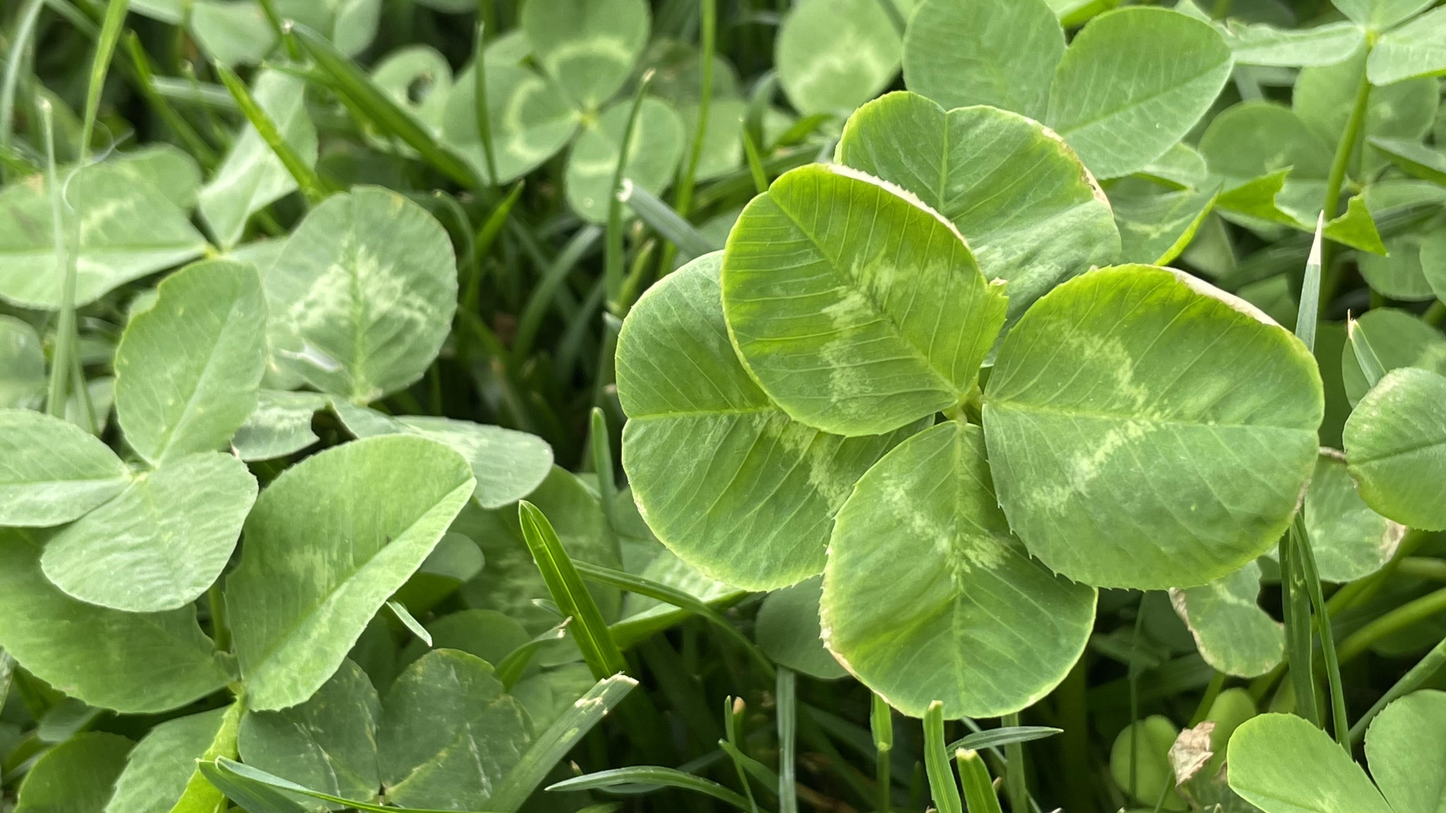5-Leaf-Clovers: (618, 96, 1322, 717)
